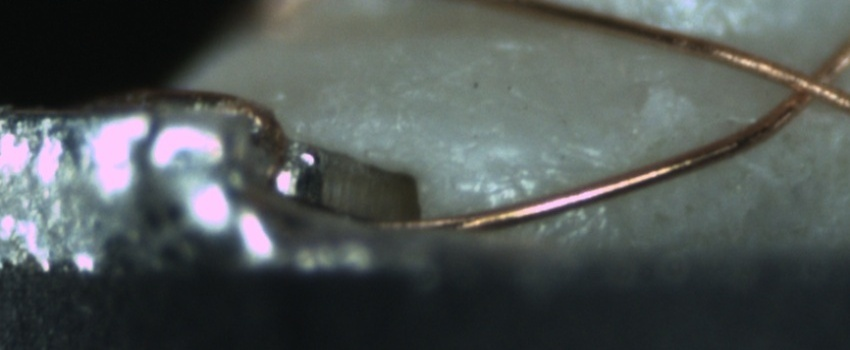CL: (762, 49, 844, 117)
TE: (119, 85, 299, 141)
